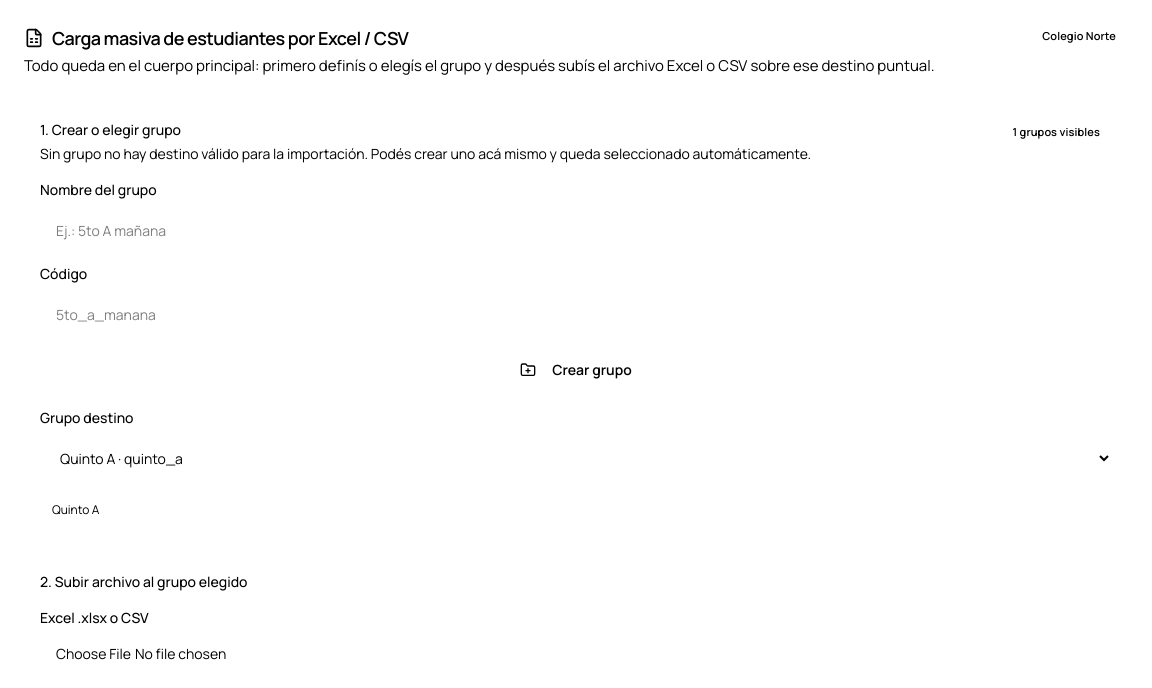
Test: StudentImportPanel › creates a class group from the same panel
In the field labelled "Nombre del grupo": (576, 230) x1=40 y1=208 x2=1112 y2=252, type "Quinto B"
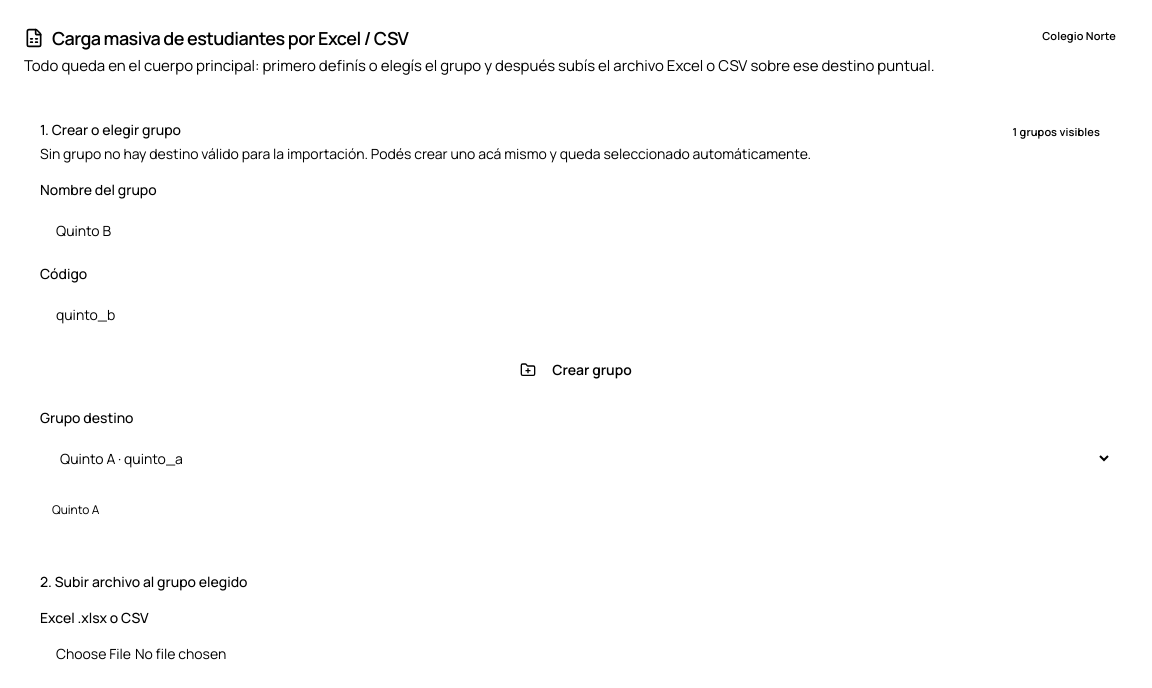
Click the button "Crear grupo": (576, 370) x1=40 y1=348 x2=1112 y2=392
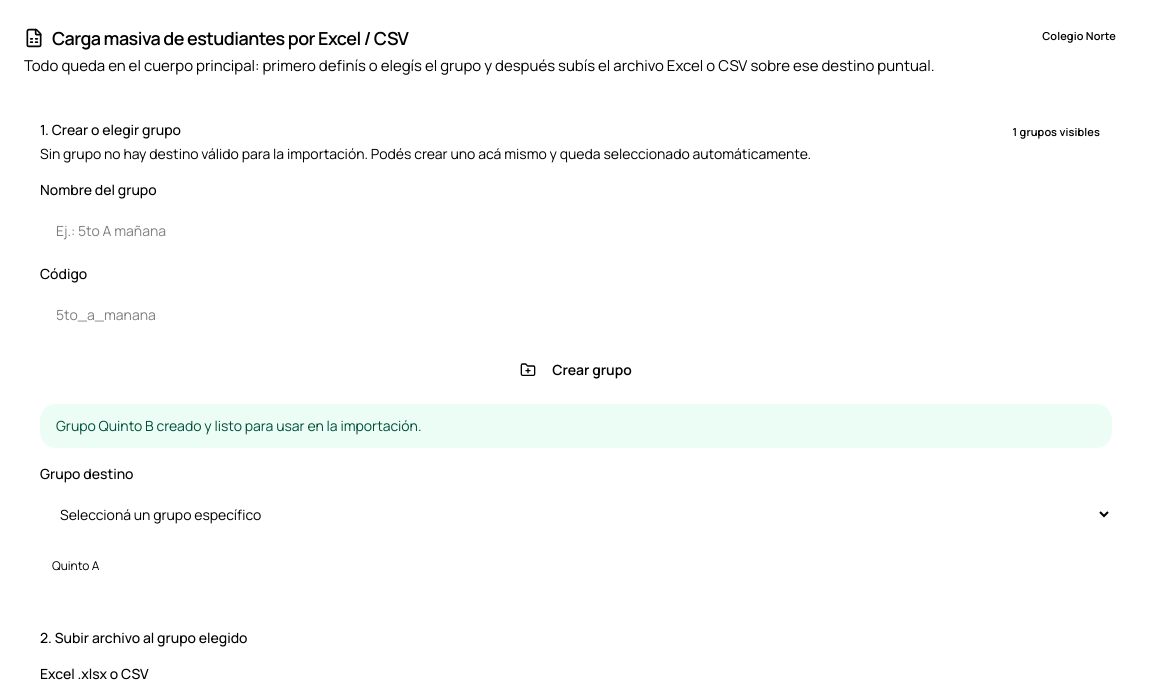
Check: the text "Grupo Quinto B creado y listo para usar en la importación." is shown, box x1=40 y1=404 x2=1112 y2=448
